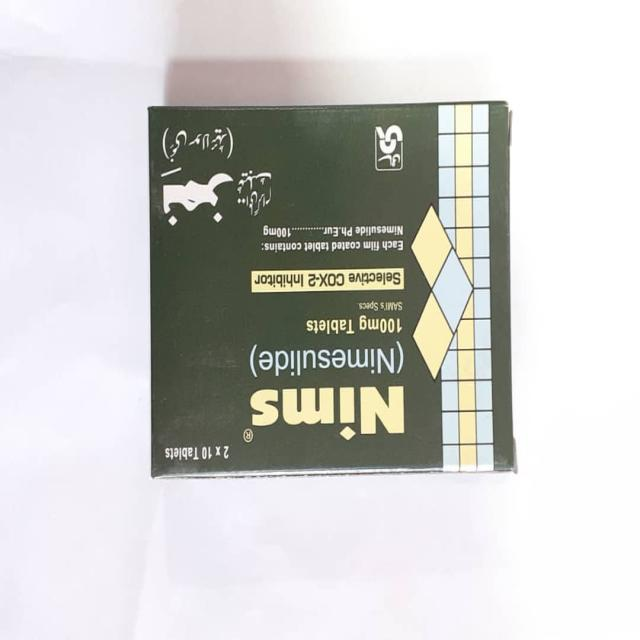drug-name: (252, 383, 409, 438)
